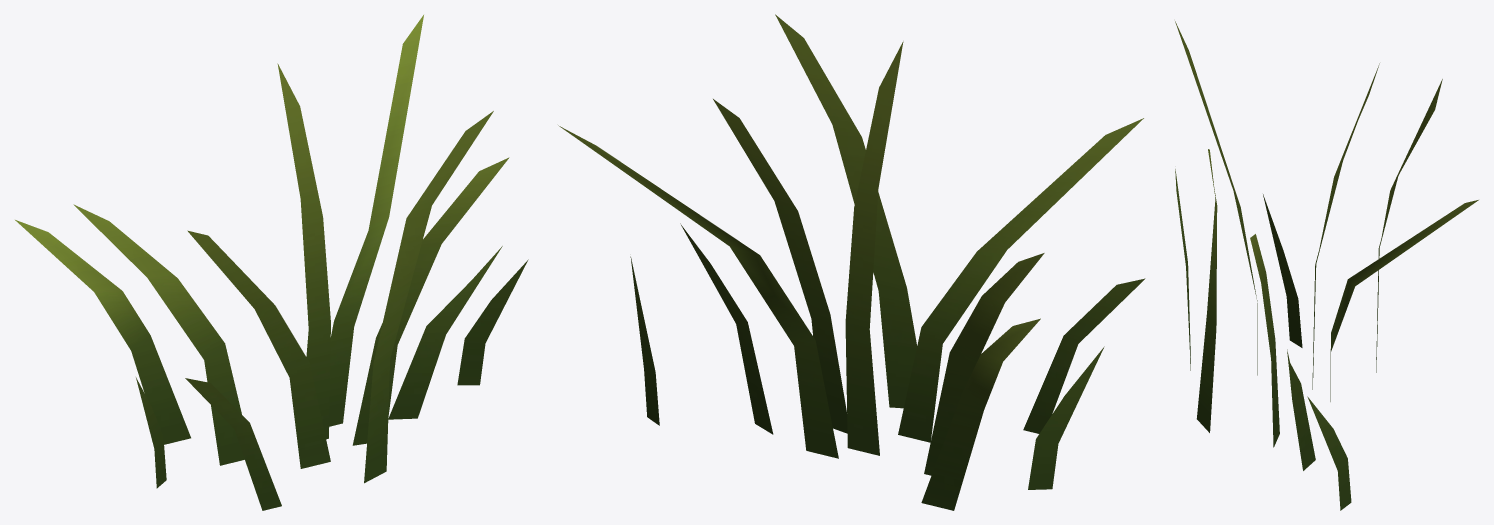
File: grass.glb
The picture shows the model from 3 angles, left to right: view 1: azimuth 30°, elevation 25°; view 2: azimuth 150°, elevation 25°; view 3: azimuth 270°, elevation 25°; orthographic projection. The views are drawn at different scales.
Parts seen in each view (by area): view 1: Grass_Small; view 2: Grass_Small; view 3: Grass_Small.
Boxes of the visible parts, left/top/right/bottom form: Grass_Small: left=15, top=15, right=528, bottom=510; Grass_Small: left=558, top=14, right=1145, bottom=510; Grass_Small: left=1175, top=21, right=1478, bottom=510.
Size of the model in its own units: 0.47 by 0.3941 by 0.2775.
Materials: 1 (1 with a texture image).
